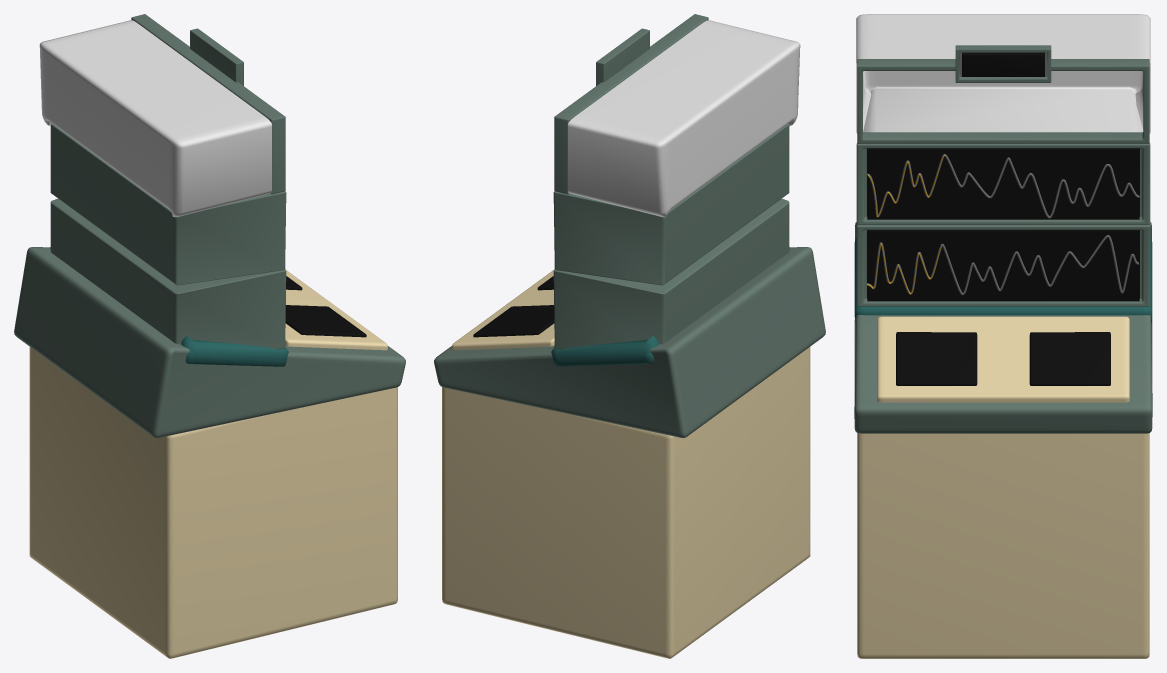
File: Machine.fbx
3 renders of one model, left to right at view 1: azimuth 30°, elevation 25°; view 2: azimuth 150°, elevation 25°; view 3: azimuth 270°, elevation 25°, orthographic. The views are drawn at different scales.
Visible parts, largest first — view 1: Machine; view 2: Machine; view 3: Machine.
Boxes of the visible parts, x1,y1,x2,y2 form: Machine: [14, 14, 405, 658]; Machine: [434, 14, 825, 658]; Machine: [854, 14, 1152, 658].
Size of the model in its own units: 102 by 206 by 100.
